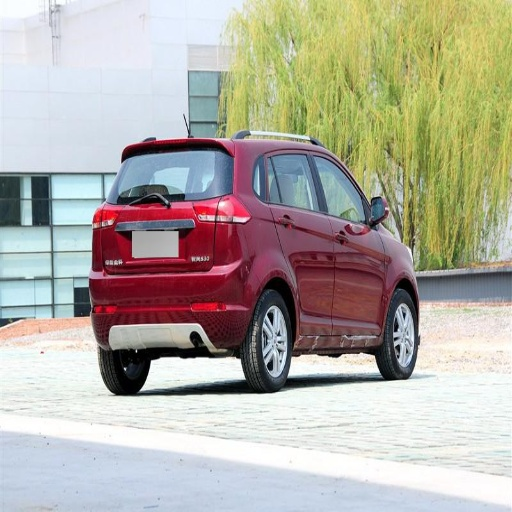back_bumper: (91, 225, 259, 346)
back_right_door: (265, 148, 333, 334)
trunk: (95, 201, 215, 307)
